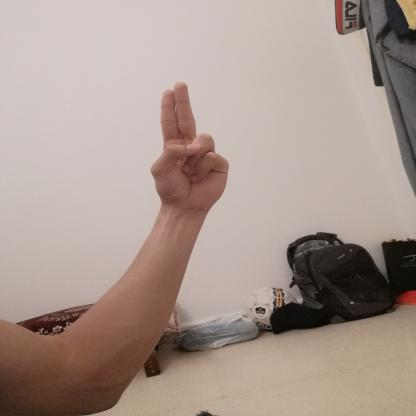TA: (133, 68, 243, 222)
